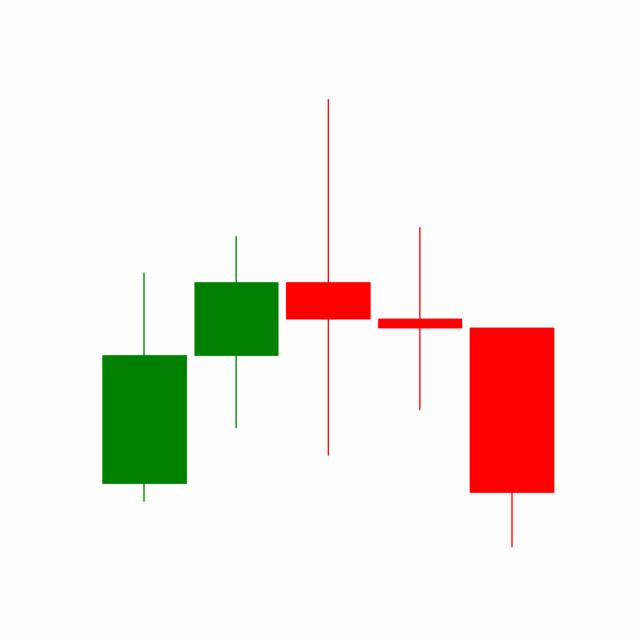Spinning Top: (373, 225, 467, 412)
